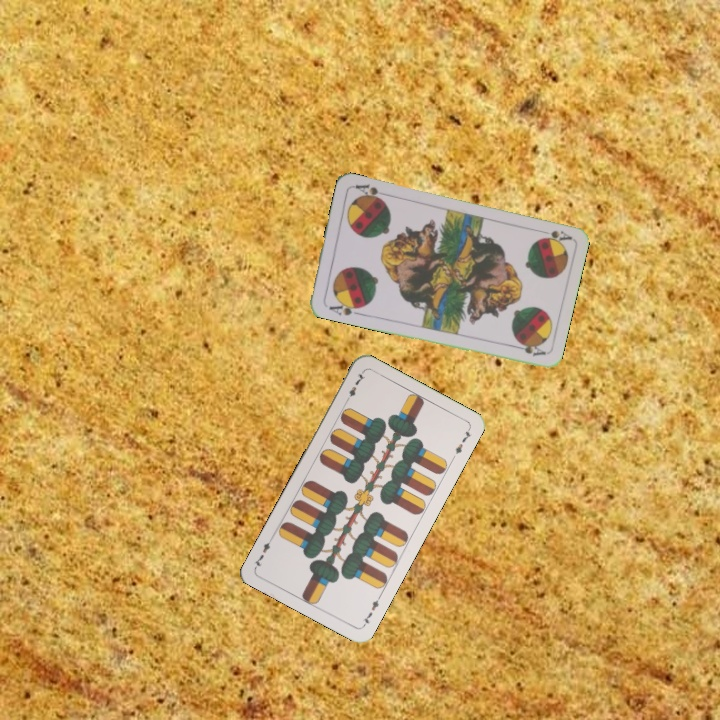E7: (358, 591, 384, 629), (342, 368, 368, 405)
SA: (533, 225, 574, 246), (325, 297, 364, 318)
